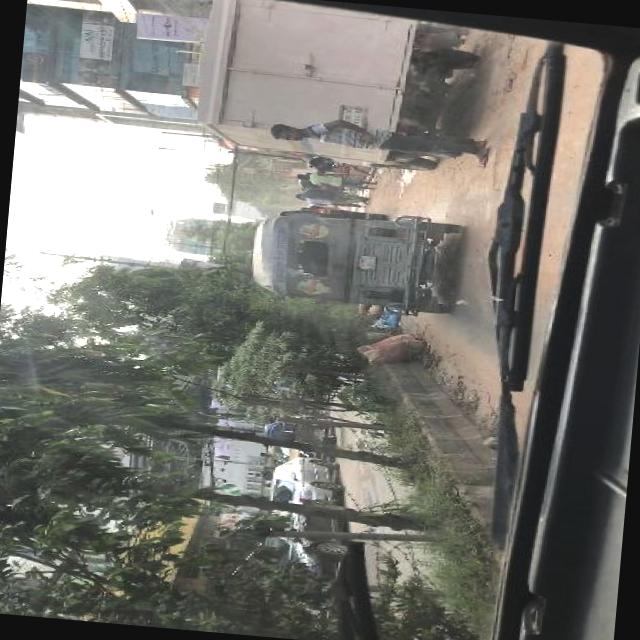car: (265, 499, 361, 611), (263, 451, 351, 506)
motorcycle: (252, 204, 462, 316), (256, 408, 334, 446)
truck: (193, 0, 484, 173)
